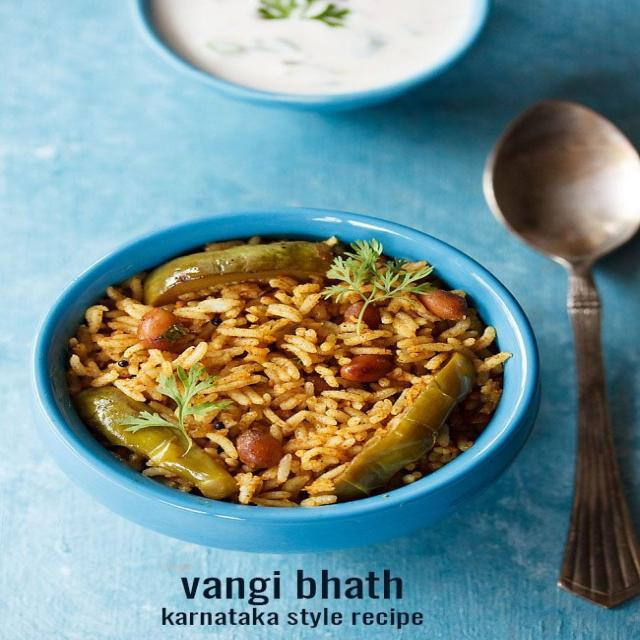vangi bath: (50, 221, 520, 519)
